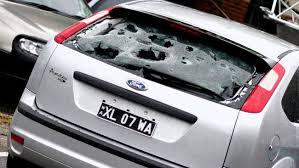Rear-windscreen-Damage: (75, 0, 252, 95)
